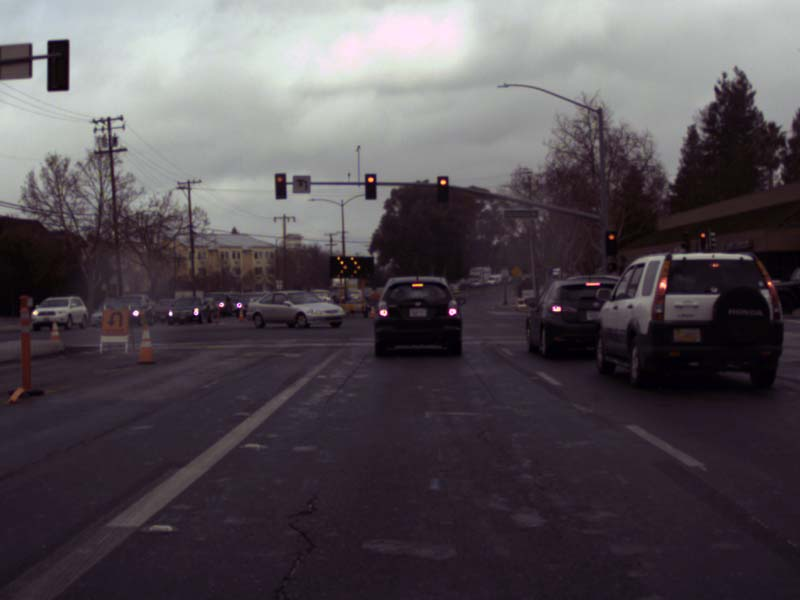Red: (437, 176, 448, 201), (275, 174, 285, 198), (606, 231, 616, 255), (366, 174, 375, 198), (699, 232, 704, 248)
